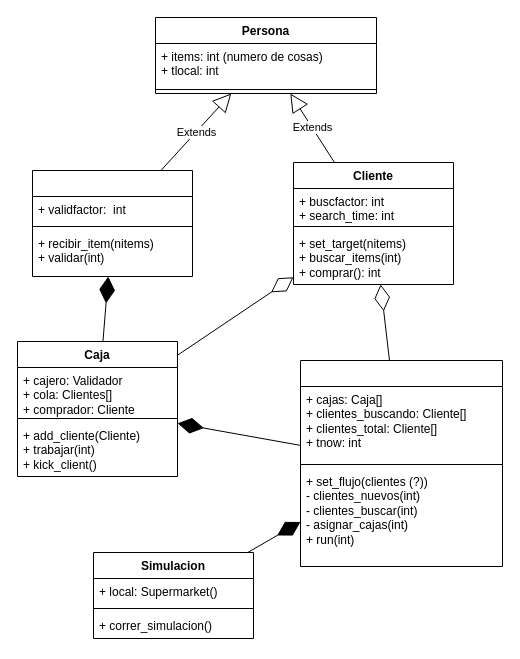
The diagram is 520 pixels wide and 659 high, and some of its shapes have lost their labels. Here are the shapes that lost their labels. From the top down, the box of each, then its label:
(32, 170, 192, 276): Validador
(300, 360, 502, 566): Supermarket
